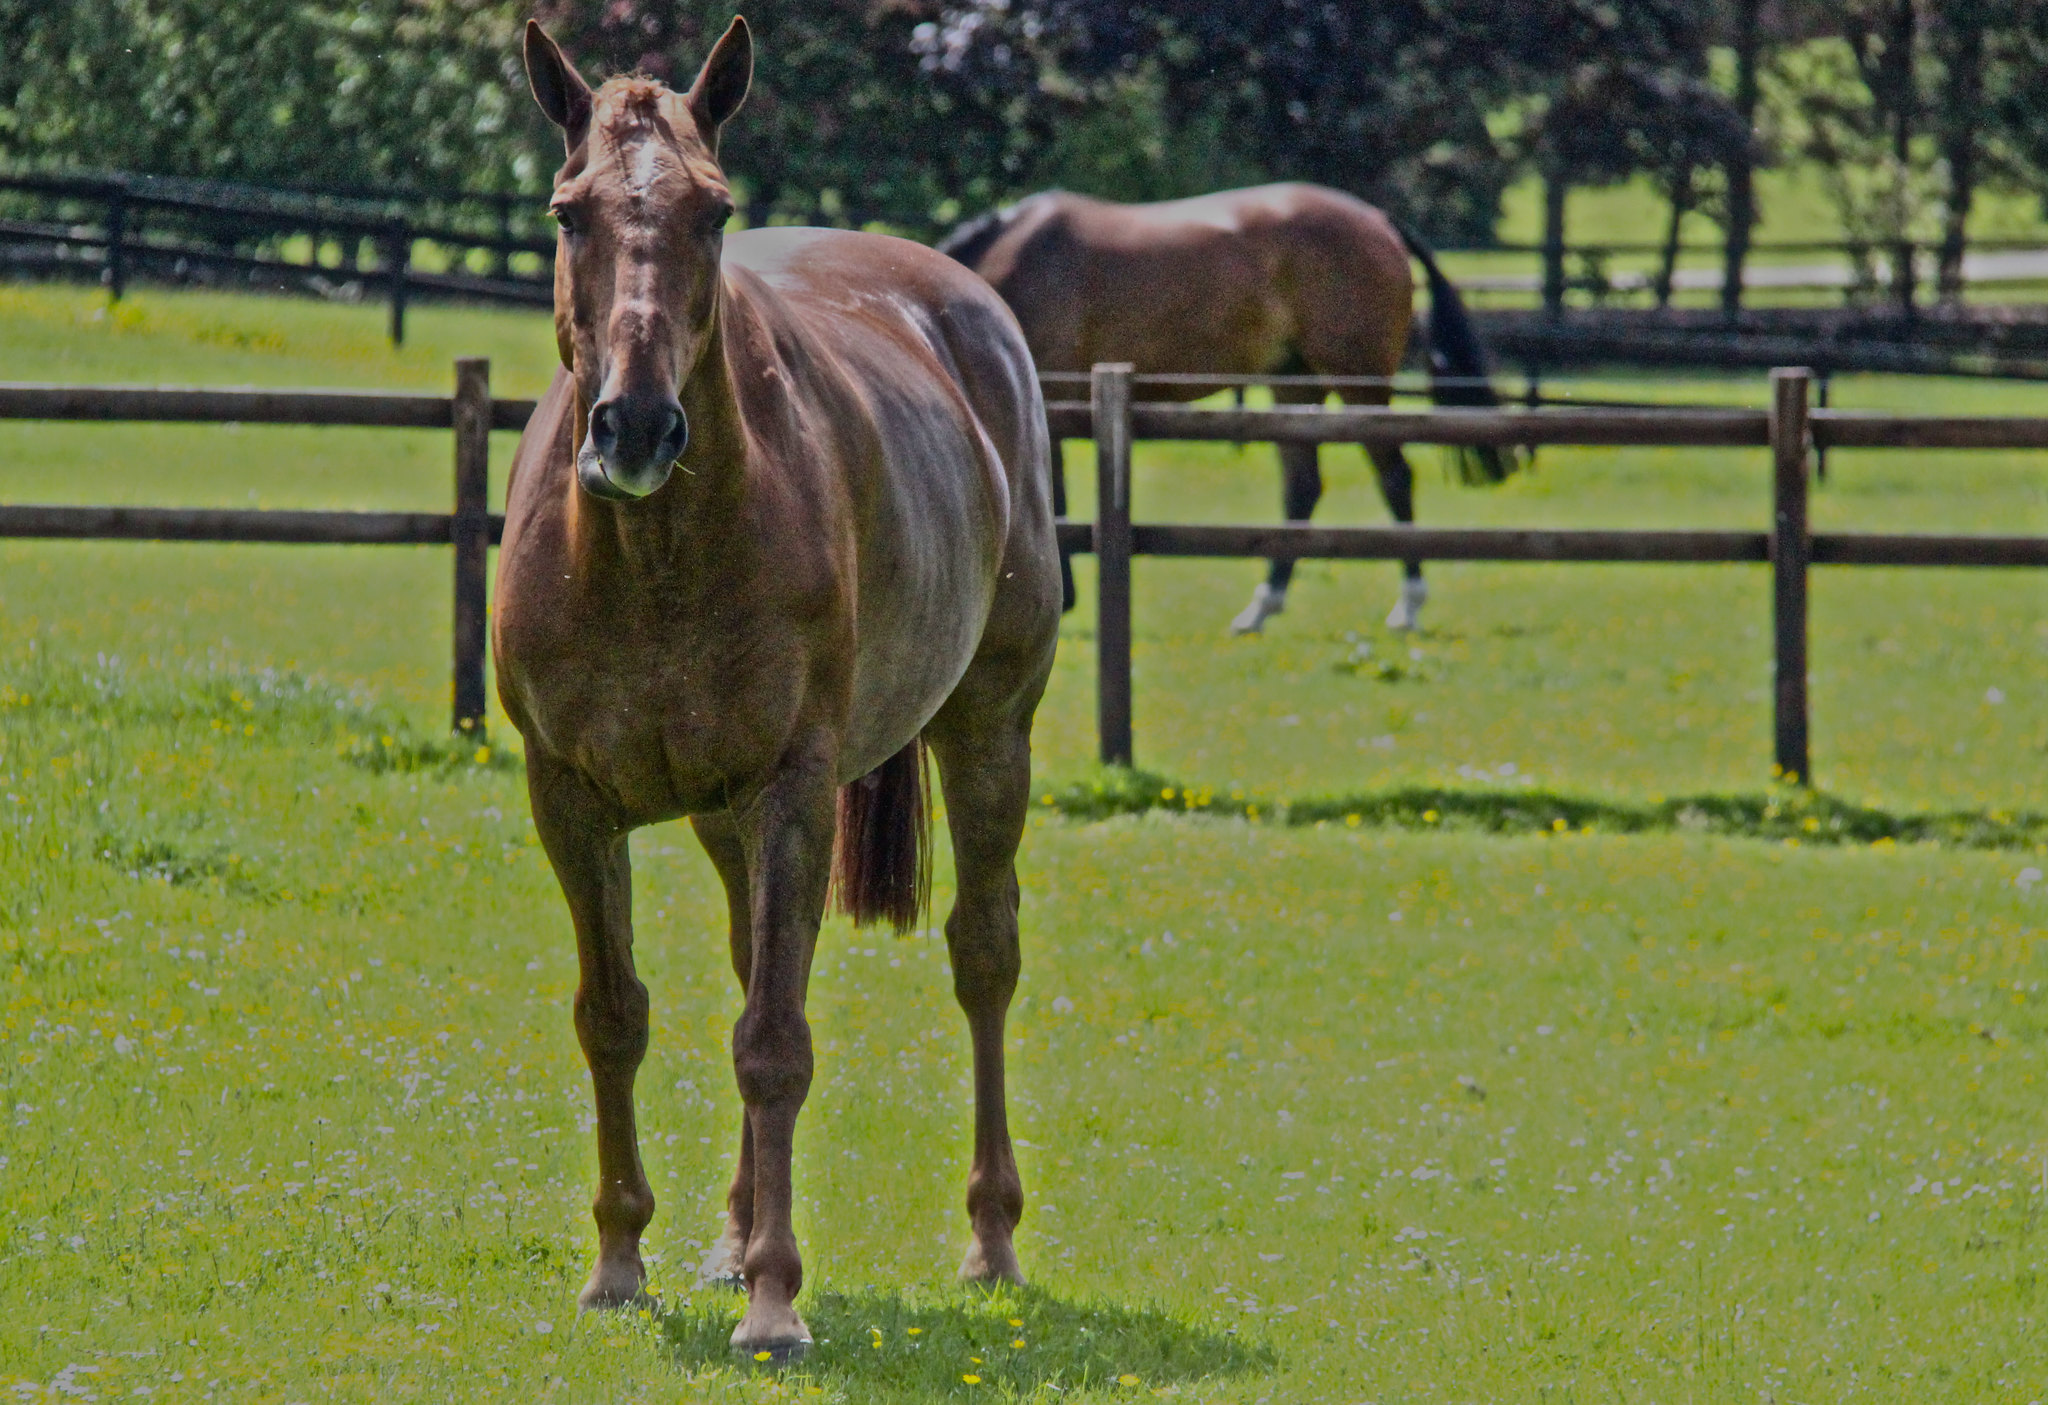horse: (486, 17, 1077, 1357), (931, 187, 1513, 660)
